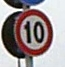limite 10: (14, 9, 52, 56)
